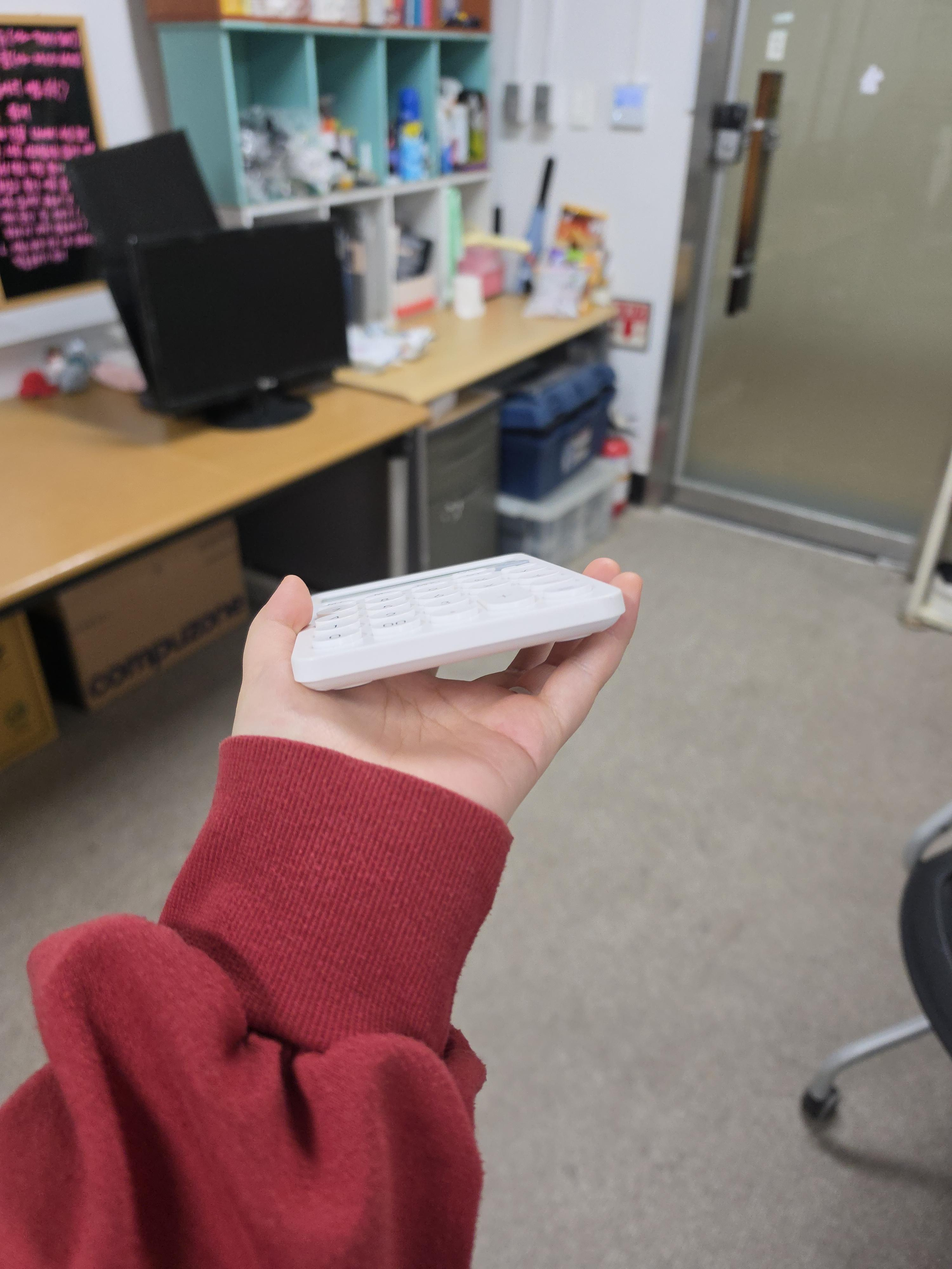calculator: (290, 551, 626, 692)
